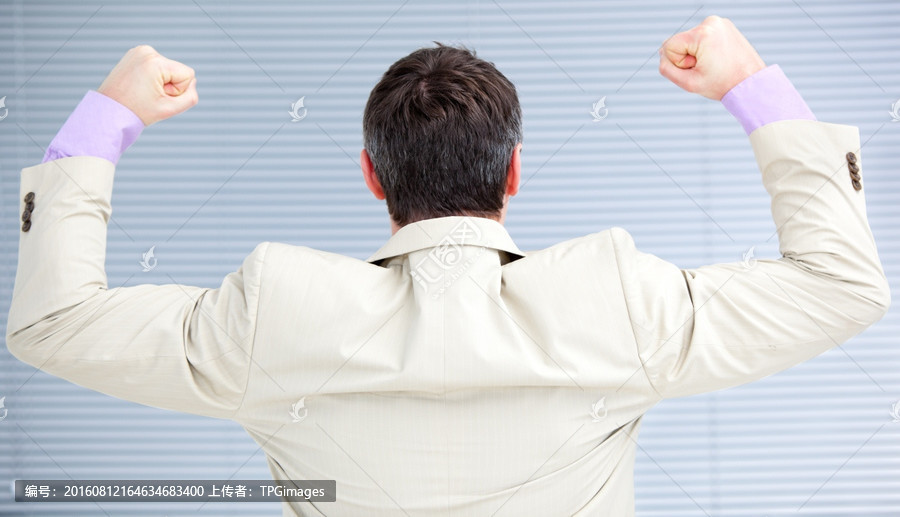no-phone: (644, 5, 782, 111), (86, 31, 211, 135)
